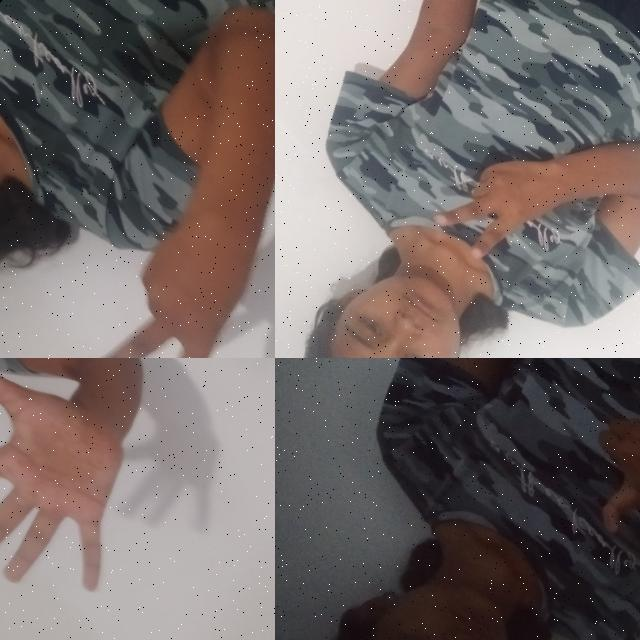Moutza: (0, 358, 202, 640)
Reversed Victory: (51, 161, 275, 358), (413, 104, 593, 290)
Thumbs Up: (553, 383, 640, 578)
